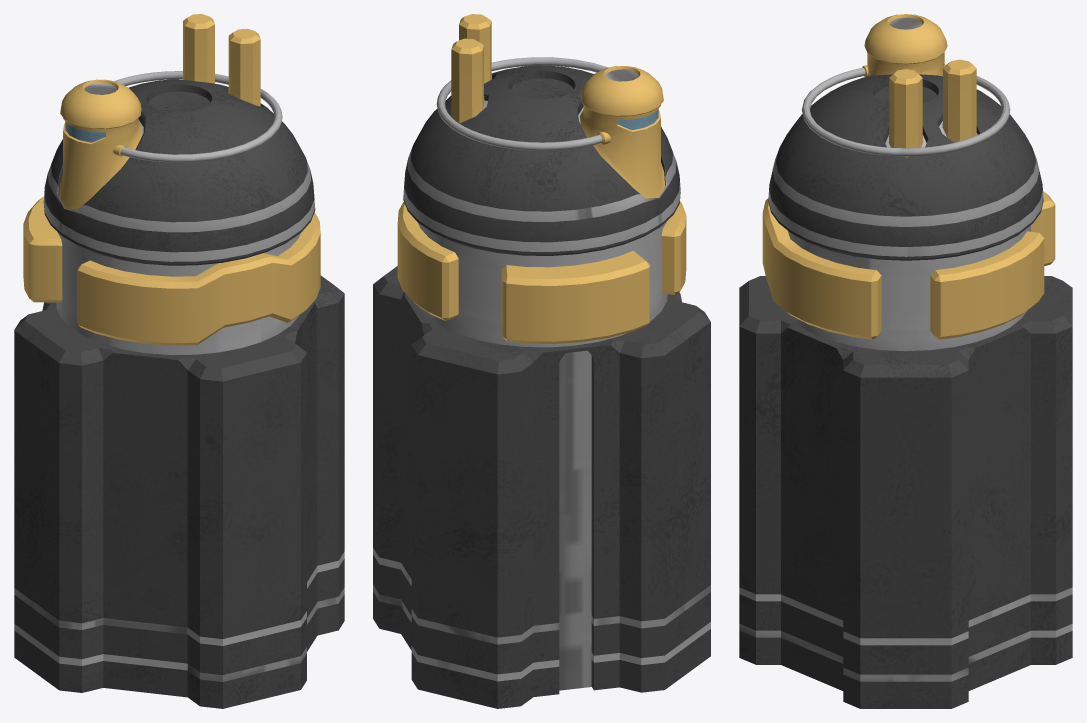
The model's file is NB_tall_observatory_Building_4.fbx.
3 renders of one model, left to right at view 1: azimuth 30°, elevation 25°; view 2: azimuth 150°, elevation 25°; view 3: azimuth 270°, elevation 25°, orthographic. The views are drawn at different scales.
Visible parts, largest first — view 1: NB_tall_observatory_Building_4; view 2: NB_tall_observatory_Building_4; view 3: NB_tall_observatory_Building_4.
Part boxes in pixels (<box>): NB_tall_observatory_Building_4: <box>14,14,344,708</box>; NB_tall_observatory_Building_4: <box>373,14,710,708</box>; NB_tall_observatory_Building_4: <box>739,14,1072,708</box>.
Bounding box in the file's own units: 400 × 789 × 400.
